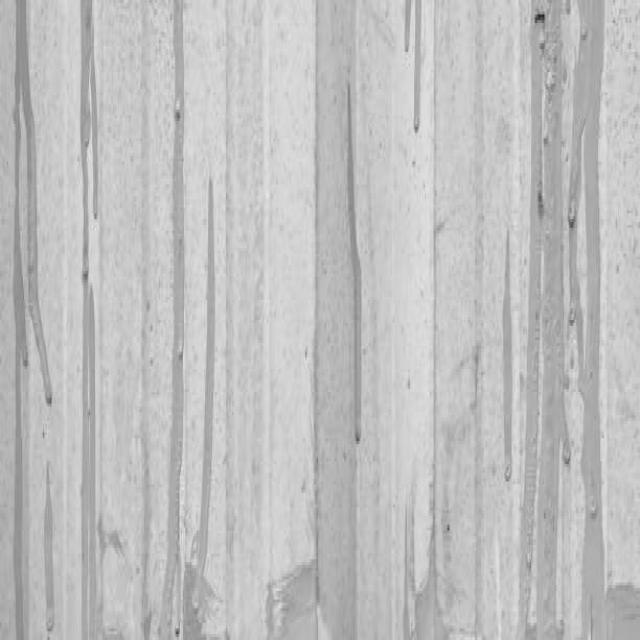paint drips: (517, 0, 610, 640), (158, 0, 219, 640), (7, 0, 61, 640), (73, 0, 111, 640), (338, 72, 366, 489), (492, 212, 517, 514), (395, 0, 426, 169)
